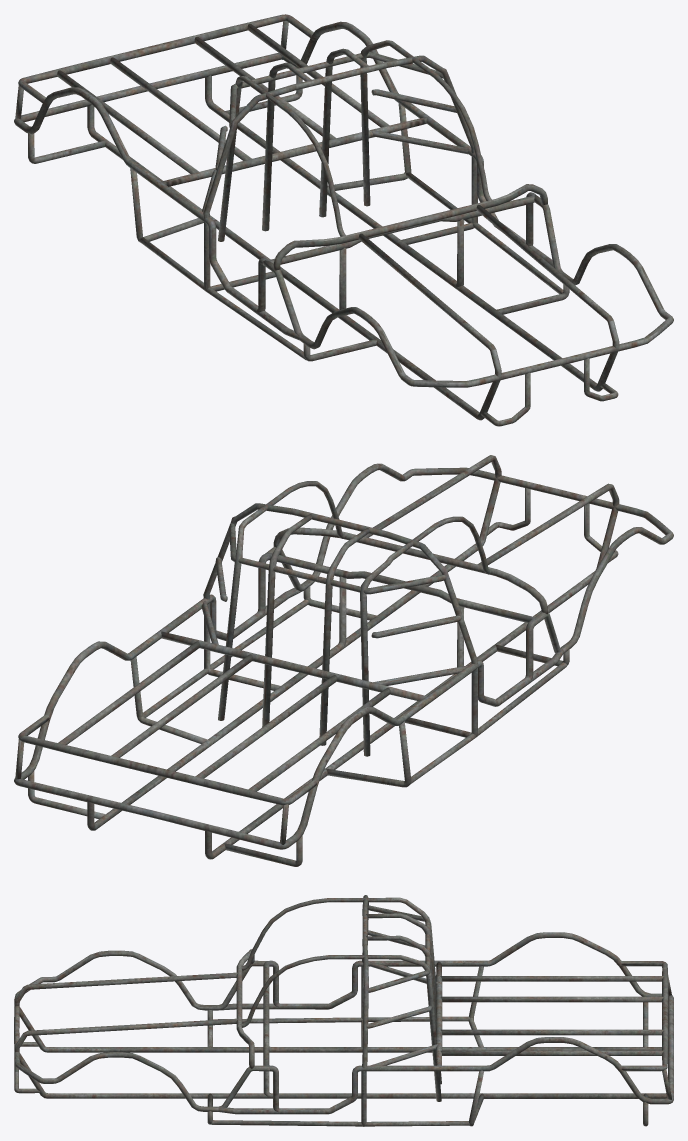
The model's file is bars.obj.
3 renders of one model, top to bottom at view 1: azimuth 30°, elevation 25°; view 2: azimuth 150°, elevation 25°; view 3: azimuth 270°, elevation 25°, orthographic. The views are drawn at different scales.
Visible parts, largest first — view 1: Cylinder.001; view 2: Cylinder.001; view 3: Cylinder.001.
Boxes of the visible parts, bbox=[...] form: Cylinder.001: bbox=[14, 14, 673, 426]; Cylinder.001: bbox=[14, 455, 673, 866]; Cylinder.001: bbox=[14, 895, 673, 1126].
Size of the model in its own units: 8.22 by 5.38 by 21.35.
